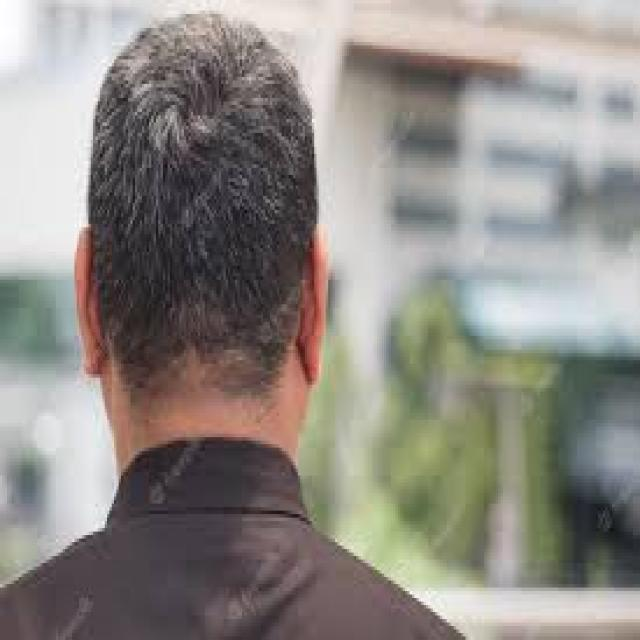Non_Helmet: (69, 4, 346, 409)
